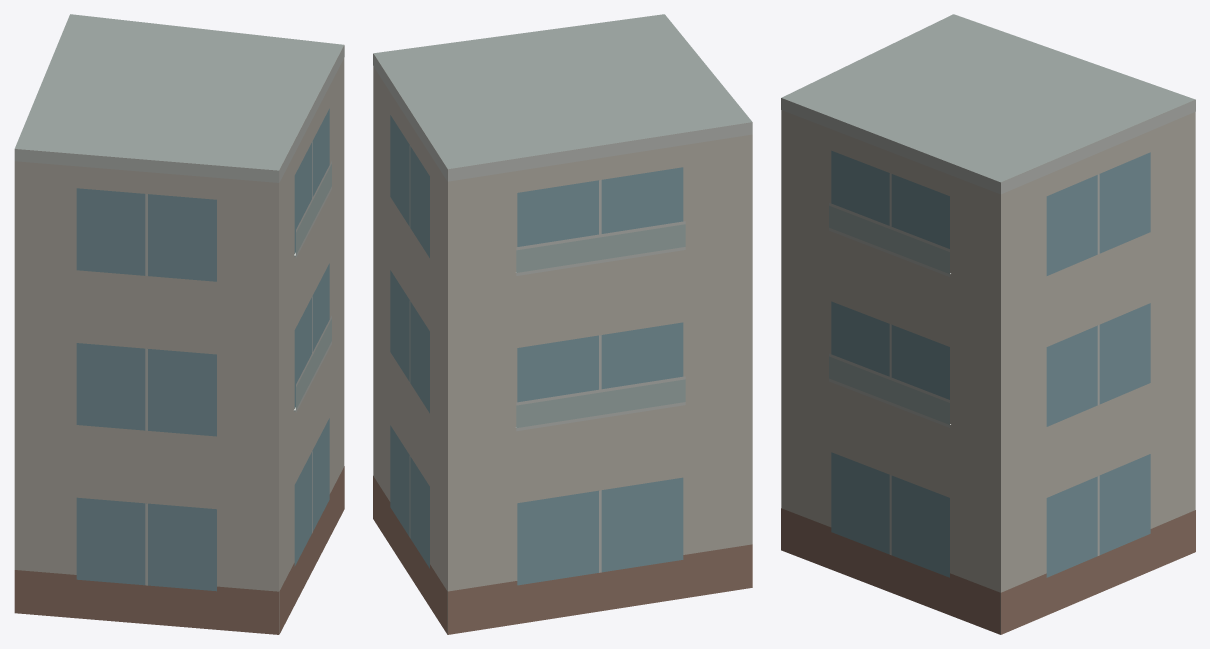
File: survey-upis-33041987.glb
The picture shows the model from 3 angles, left to right: view 1: azimuth 30°, elevation 25°; view 2: azimuth 150°, elevation 25°; view 3: azimuth 270°, elevation 25°; orthographic projection. The views are drawn at different scales.
Parts seen in each view (by area): view 1: survey-upis-33041987.tmp; view 2: survey-upis-33041987.tmp; view 3: survey-upis-33041987.tmp.
Boxes of the visible parts, <box> form: survey-upis-33041987.tmp: <box>14,14,344,634</box>; survey-upis-33041987.tmp: <box>373,14,752,634</box>; survey-upis-33041987.tmp: <box>781,14,1195,634</box>.
Size of the model in its own units: 7.31 by 9.15 by 7.61.
